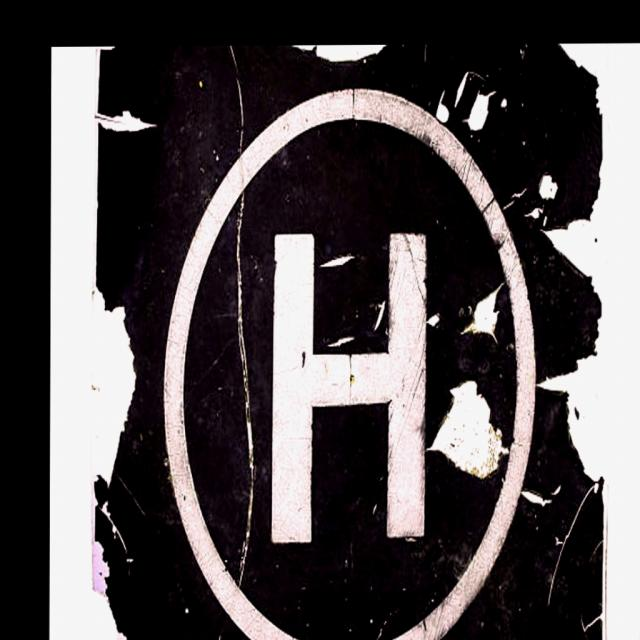helipad: (158, 79, 544, 640)
